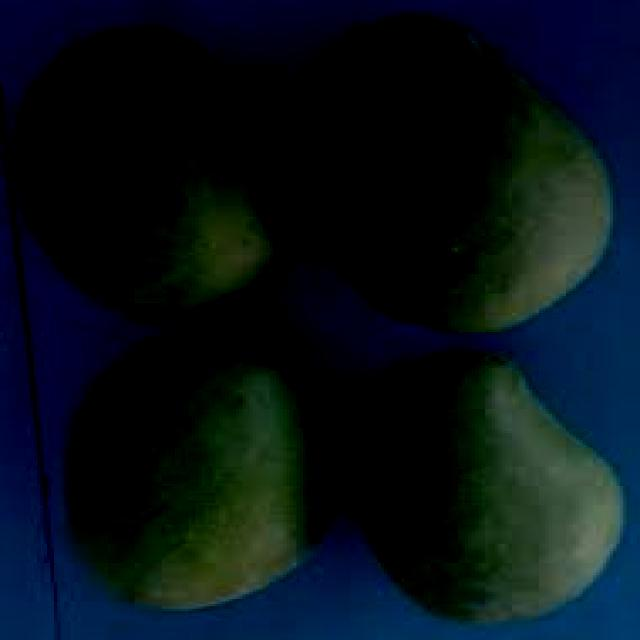Mango: (293, 19, 613, 337), (10, 29, 300, 328), (336, 354, 624, 628), (64, 332, 330, 614)
